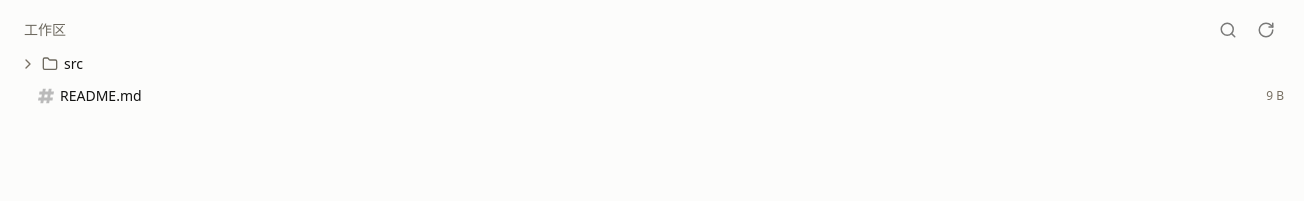
FilesTool：单击预览 › 读不了的文件：把错误露在预览层里
Step 1. Click the text "README.md" → {"x": 101, "y": 96}, box [60,86,142,106]
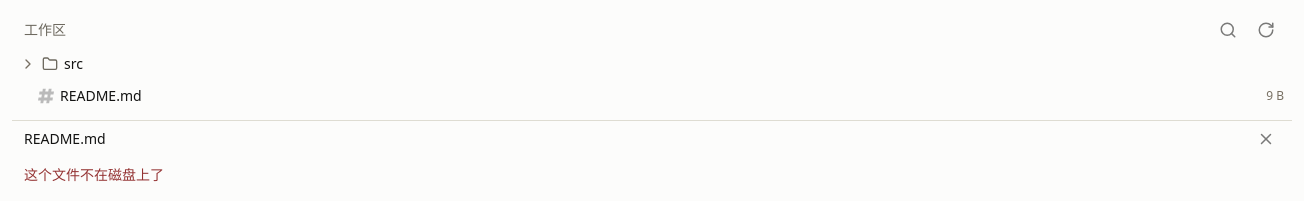
Check: the text with test id "file-preview-error" reads "这个文件不在磁盘上了", box [24,165,164,184]
